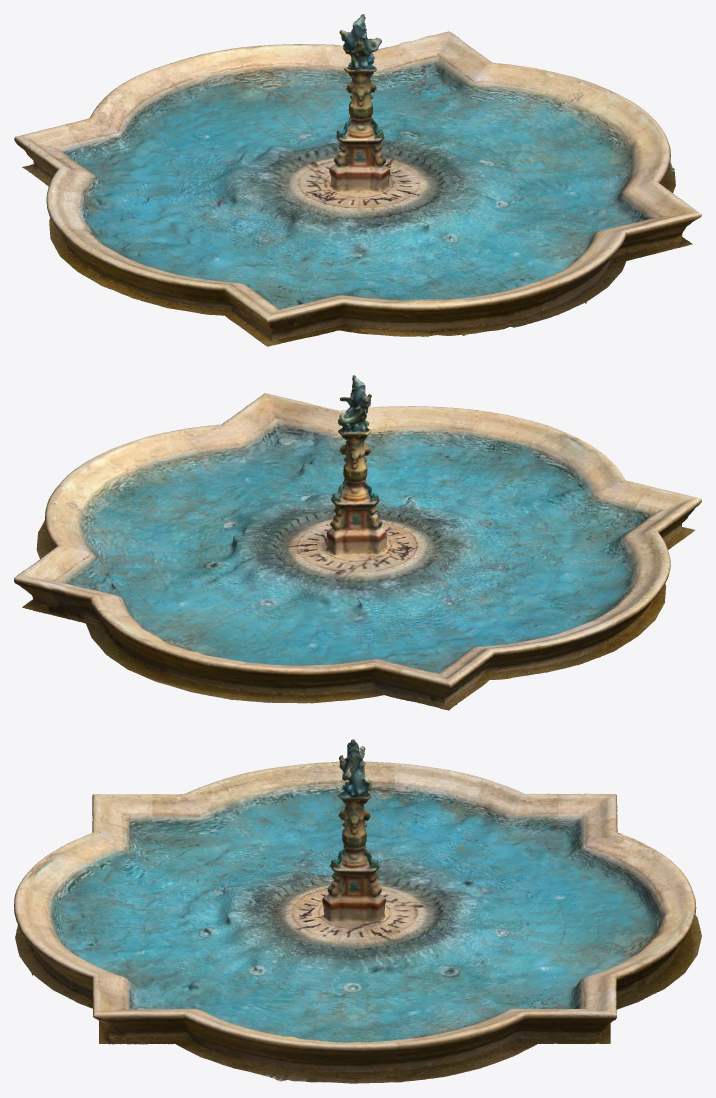
Rendered from fountain.glb.
3 renders of one model, top to bottom at view 1: azimuth 30°, elevation 25°; view 2: azimuth 150°, elevation 25°; view 3: azimuth 270°, elevation 25°, orthographic. The views are drawn at different scales.
Visible parts, largest first — view 1: Mesh_0_Material_0_0; view 2: Mesh_0_Material_0_0; view 3: Mesh_0_Material_0_0.
Part boxes in pixels (left/top/right/bottom): Mesh_0_Material_0_0: left=14, top=14, right=701, bottom=346; Mesh_0_Material_0_0: left=14, top=375, right=701, bottom=710; Mesh_0_Material_0_0: left=14, top=739, right=701, bottom=1083.
Size of what is drawn, in the model's own units: 8.04 by 2.61 by 8.04.
Materials: 1 (1 with a texture image).
